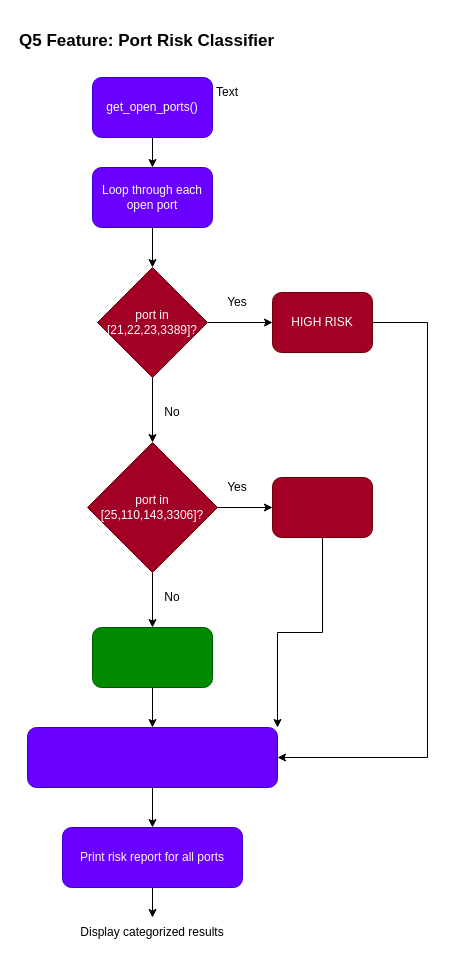
Some shapes in this 453 by 964 pixel diagram are drawn without their labels. The shapes that lost their labels are listed below. From the top down, each one's centre as x and y in pixels, then its label:
At point 322,507: "MEDIUM RISK".
At point 152,657: "LOW RISK".
At point 152,757: "Append (port, service, risk_level) to list".
